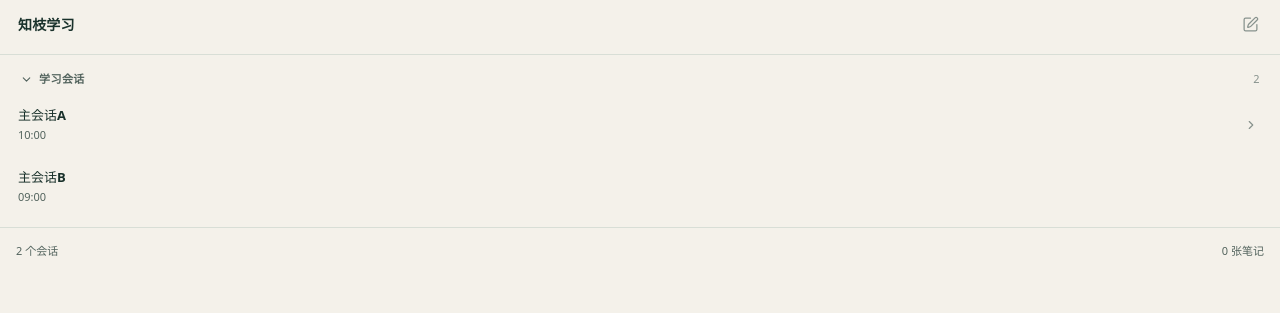
Test case: ThreadList 分支展开 › 点击箭头展开分支树，嵌套分支默认收起
Click the button with class "thread-list__item-toggle".
click(1251, 125)  # box left=1240, top=114, right=1262, bottom=136
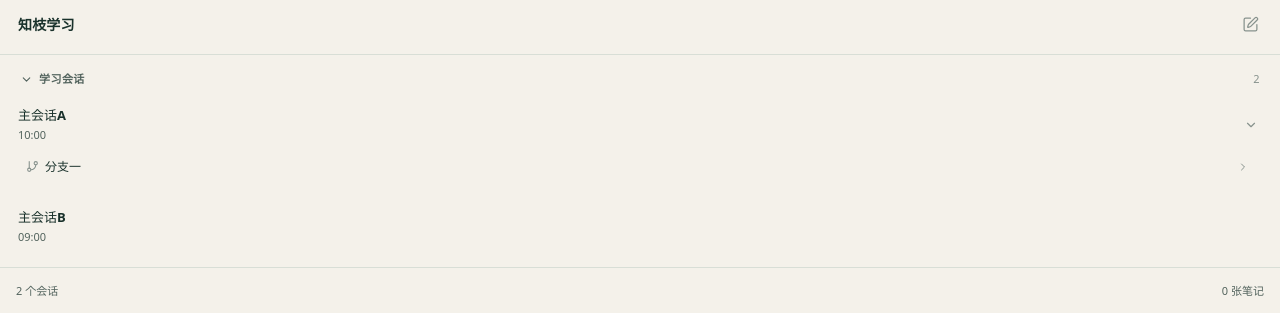
Result: the text "分支一" is shown at left=45, top=158, right=81, bottom=174
Result: the button with class "thread-branch__toggle" is shown at left=1234, top=158, right=1252, bottom=176
